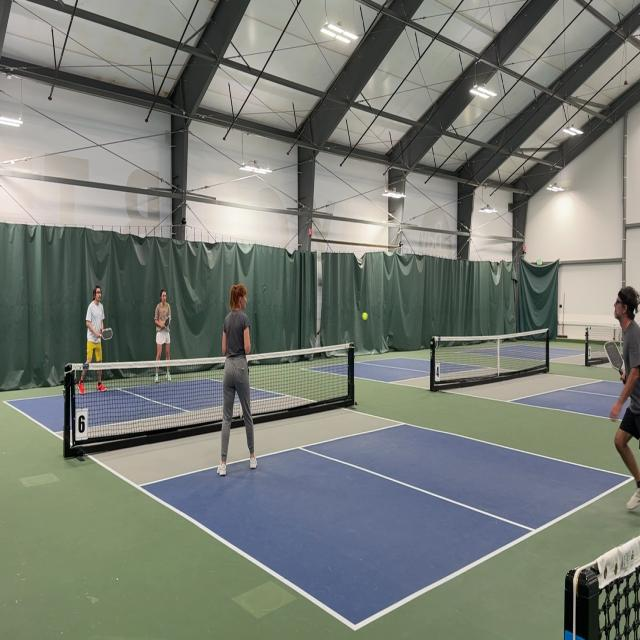ball: (362, 312, 368, 322)
